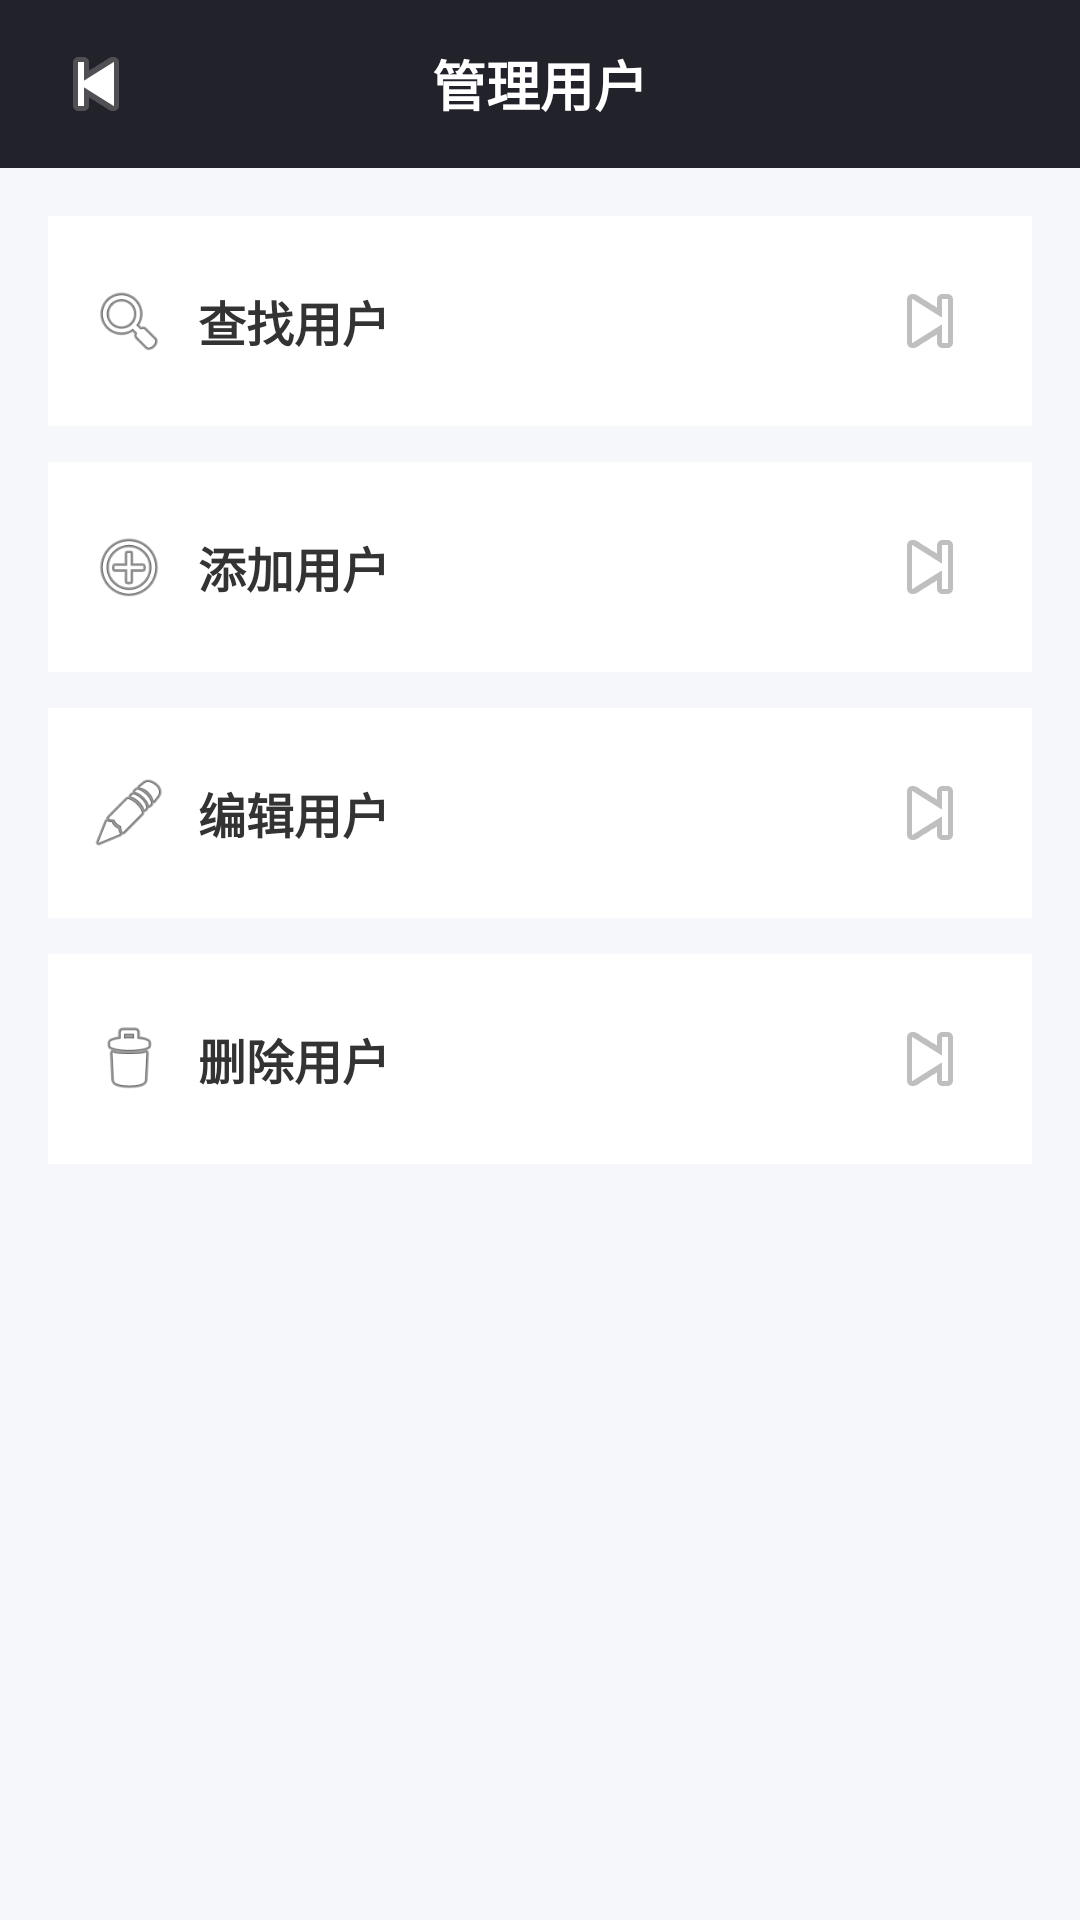

Where to tap for icons on this 1080×1920 app screen, as (x=x, y=y):
add: (x=129, y=567)
delete: (x=129, y=1057)
edit: (x=129, y=812)
next: (x=930, y=321), (x=930, y=567), (x=930, y=813), (x=930, y=1059)
previous: (x=96, y=84)
search: (x=129, y=321)
